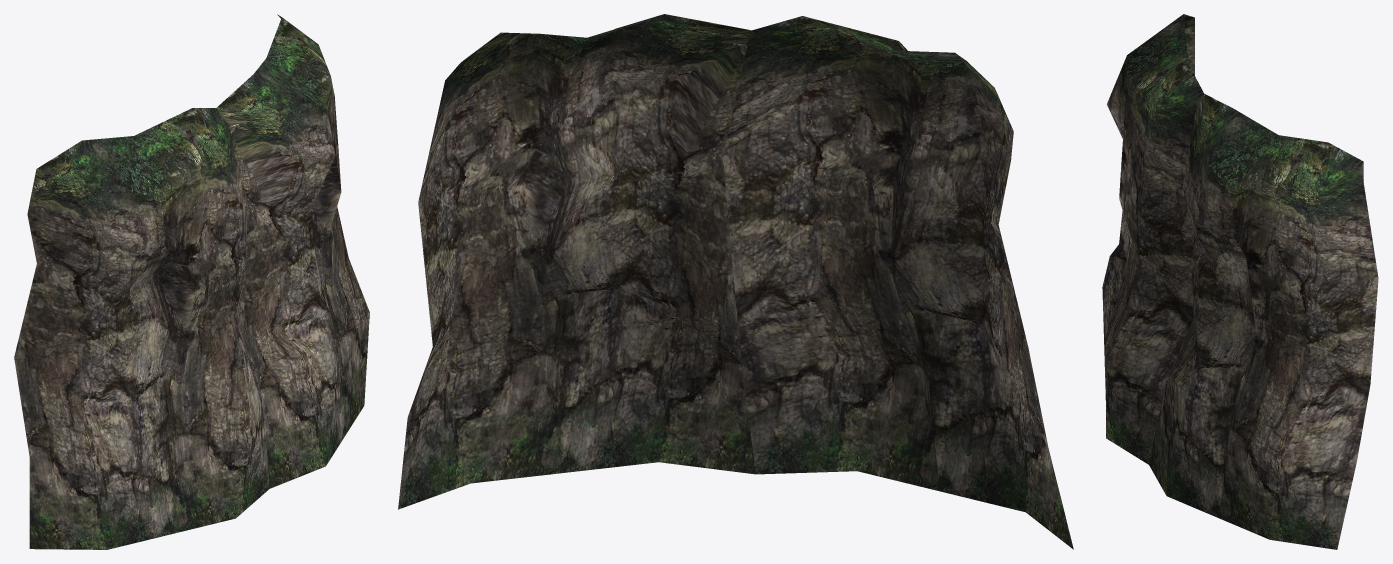
The model's file is stone_cliff01_02.glb.
The picture shows the model from 3 angles, left to right: view 1: azimuth 30°, elevation 25°; view 2: azimuth 150°, elevation 25°; view 3: azimuth 270°, elevation 25°; orthographic projection. The views are drawn at different scales.
Parts seen in each view (by area): view 1: stone_clif01_02; view 2: stone_clif01_02; view 3: stone_clif01_02.
Part boxes in pixels (x1,y1,x2,y2): stone_clif01_02: [14, 14, 369, 549]; stone_clif01_02: [398, 14, 1073, 549]; stone_clif01_02: [1102, 14, 1378, 549].
Bounding box in the file's own units: 63.5 × 54.93 × 36.93.
Materials: 1 (1 with a texture image).
